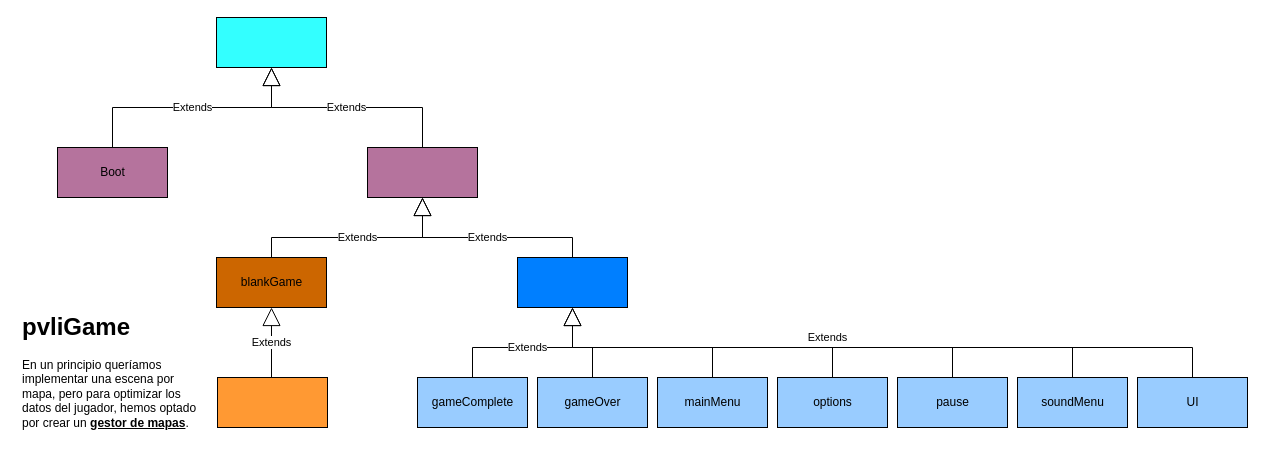
Image size: 1265x455. Some labels were removed from this diagram. The shapes that lost their labels are listed below. From the top down, each one's centre as x and y in pixels, then its label:
At point (271, 42): "Phaser.Scene".
At point (422, 172): "Scene".
At point (572, 282): "blankMenu".
At point (272, 402): "pvliGame".
